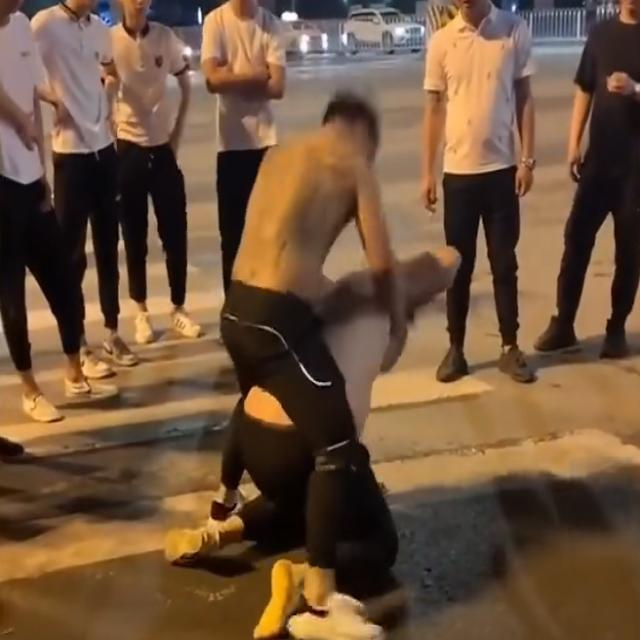fight: (224, 86, 458, 460)
nofight: (408, 1, 554, 388), (94, 0, 214, 361), (191, 2, 287, 178)
